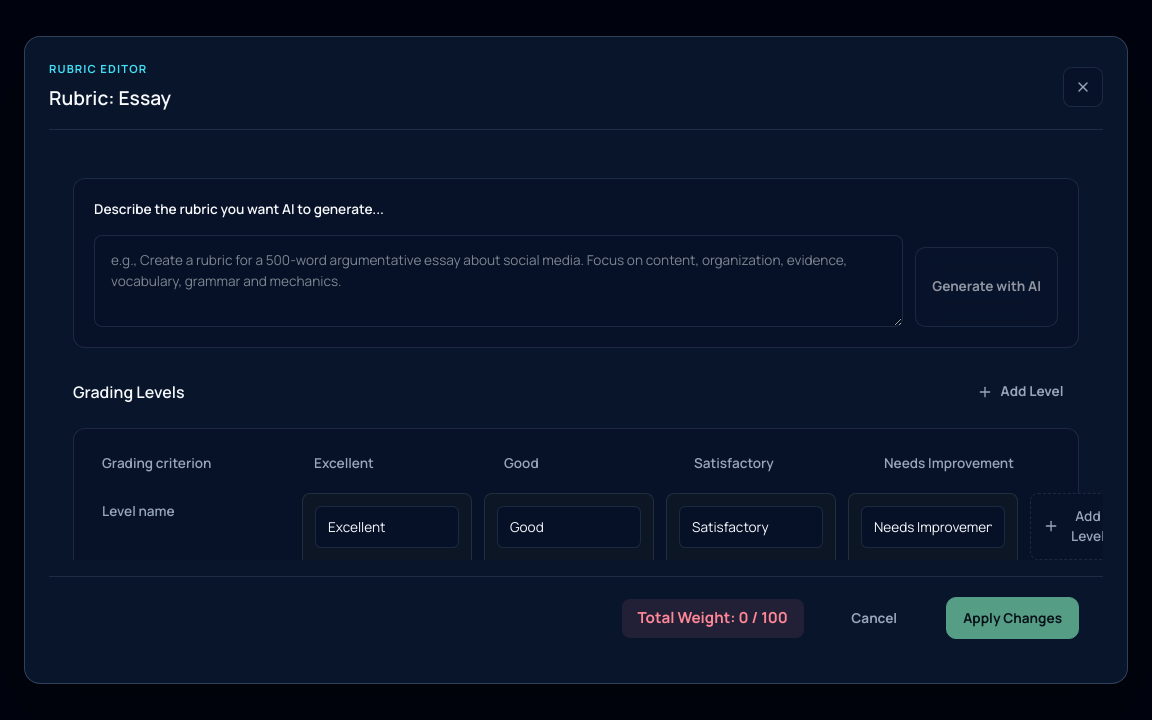
RubricEditorDialog AI draft › renders the rough-prompt result as an editable unsaved draft
The image size is (1152, 720).
Replace the text in the text box with placeholder "Create a rubric for a 500-word" with "create a rubrics of 100 mark with organization, vocab, choarance, clarity of writting.": (499, 281) [94, 235, 903, 327]
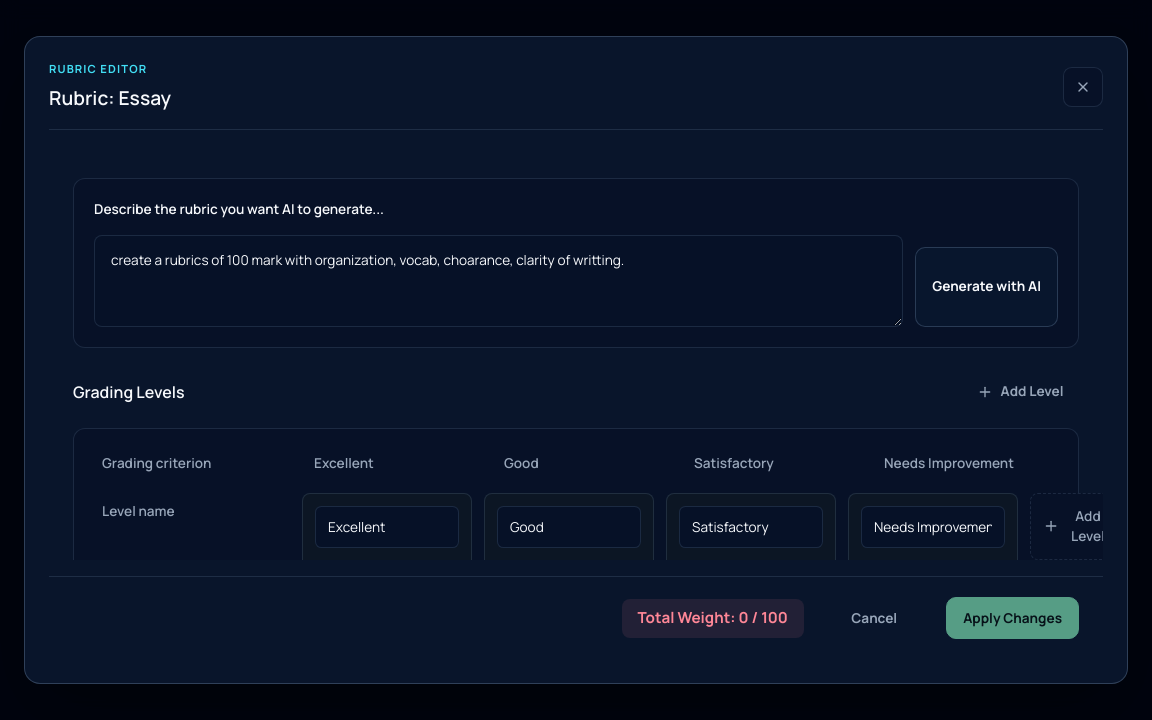
Click the button "Generate with AI": click(987, 286) [915, 246, 1058, 326]
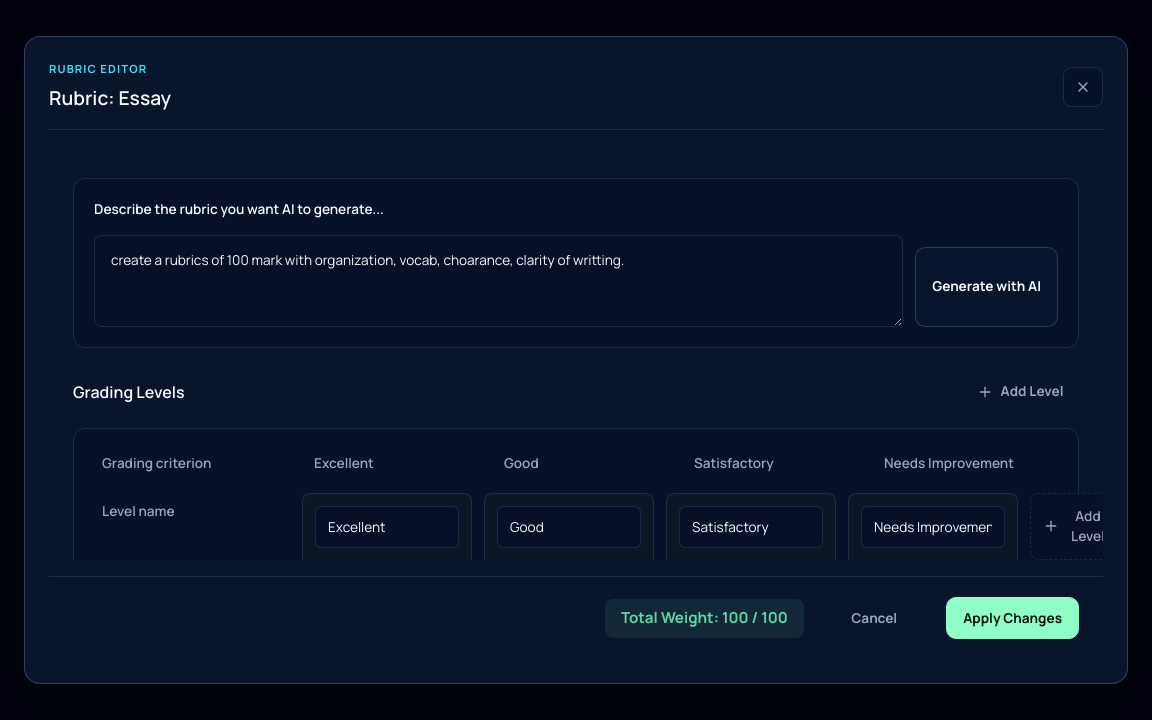
Expected: the text "Total Weight: 100 / 100" is shown, [605, 599, 804, 638]
Expected: the button "Apply Changes" is enabled, [946, 597, 1079, 639]
